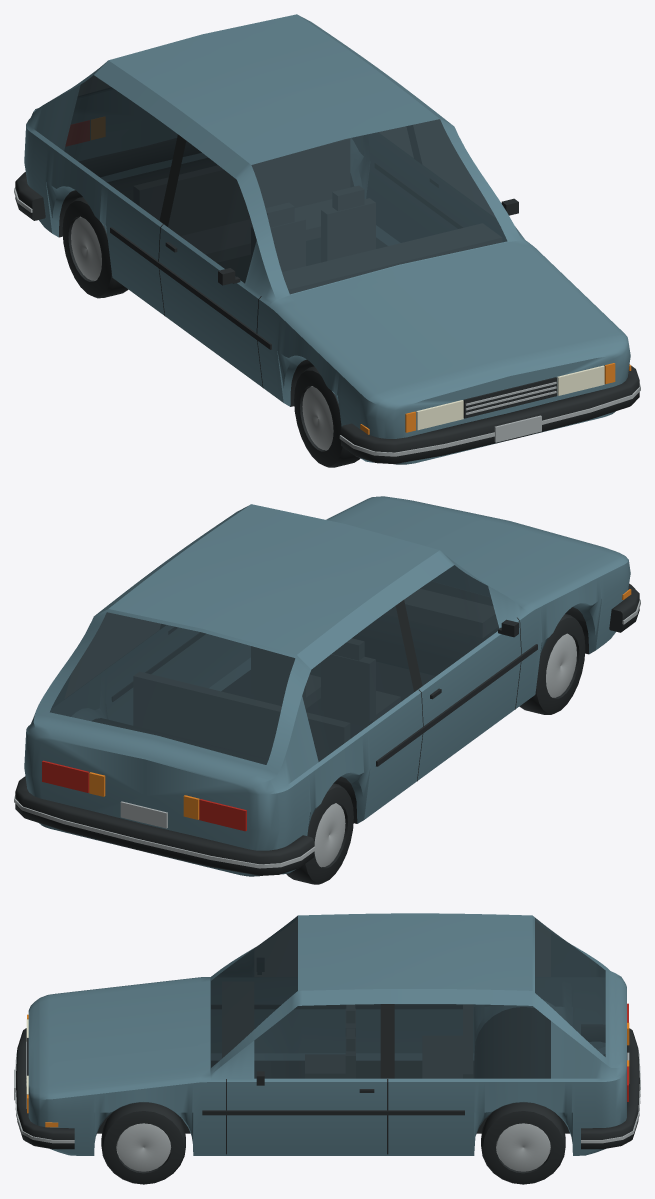
File: customer-car-hatchback.glb
3 views of the same model, one above another, from view 1: azimuth 30°, elevation 25°; view 2: azimuth 150°, elevation 25°; view 3: azimuth 270°, elevation 25° (orthographic). The views are drawn at different scales.
Parts seen in each view (by area): view 1: Hatchback_BodyPaint, Hatchback_WindowGlass, Hatchback_InteriorCloth, Hatchback_RubberTrim, Hatchback_WheelMetal, Hatchback_Headlamp, Hatchback_AmberLens; view 2: Hatchback_BodyPaint, Hatchback_WindowGlass, Hatchback_RubberTrim, Hatchback_InteriorCloth, Hatchback_WheelMetal, Hatchback_TailLamp, Hatchback_AmberLens; view 3: Hatchback_BodyPaint, Hatchback_WindowGlass, Hatchback_RubberTrim, Hatchback_InteriorCloth, Hatchback_WheelMetal.
Boxes of the visible parts, <box> form: Hatchback_BodyPaint: <box>24,14,630,464</box>; Hatchback_WindowGlass: <box>64,75,507,294</box>; Hatchback_InteriorCloth: <box>134,139,501,293</box>; Hatchback_RubberTrim: <box>15,125,639,467</box>; Hatchback_WheelMetal: <box>14,187,640,456</box>; Hatchback_Headlamp: <box>416,365,604,430</box>; Hatchback_AmberLens: <box>91,117,631,434</box>; Hatchback_BodyPaint: <box>24,496,630,876</box>; Hatchback_WindowGlass: <box>50,565,499,764</box>; Hatchback_RubberTrim: <box>15,582,639,884</box>; Hatchback_InteriorCloth: <box>134,589,497,760</box>; Hatchback_WheelMetal: <box>14,599,640,868</box>; Hatchback_TailLamp: <box>42,760,246,831</box>; Hatchback_AmberLens: <box>89,589,631,819</box>; Hatchback_BodyPaint: <box>28,913,626,1155</box>; Hatchback_WindowGlass: <box>211,915,605,1078</box>; Hatchback_RubberTrim: <box>16,1004,639,1184</box>; Hatchback_InteriorCloth: <box>222,982,472,1077</box>; Hatchback_WheelMetal: <box>14,1041,640,1171</box>.
Bounding box in the file's own units: 6.1 × 4.53 × 13.63.
